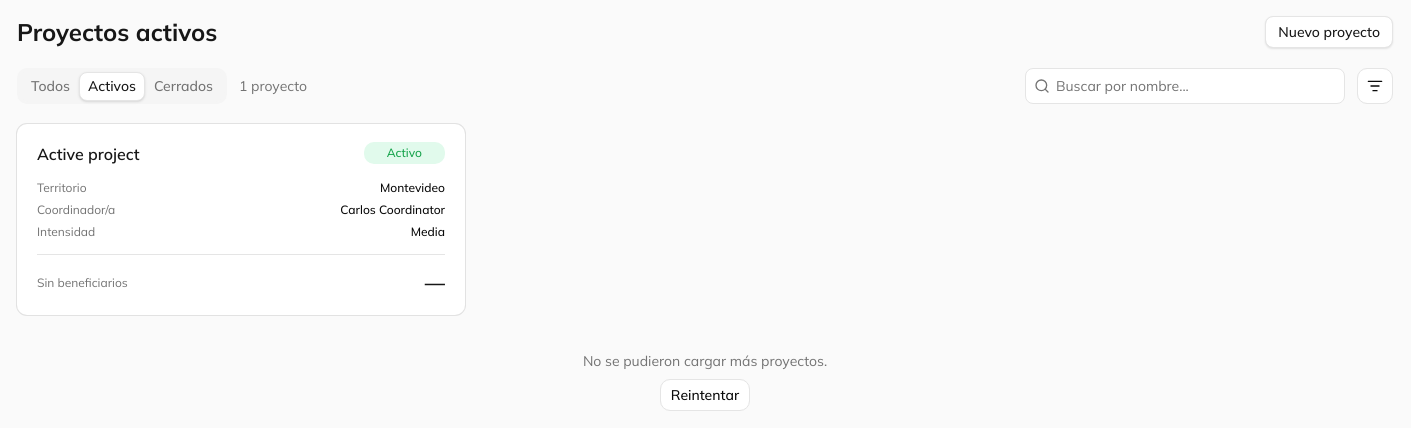
Test: offers a retry when loading the next page fails
The width and height of the screenshot is (1411, 428).
Expected: the text "No se pudieron cargar más proyectos." is shown, left=583, top=351, right=827, bottom=371
Click the button "Reintentar" at (705, 395), box left=660, top=379, right=750, bottom=411
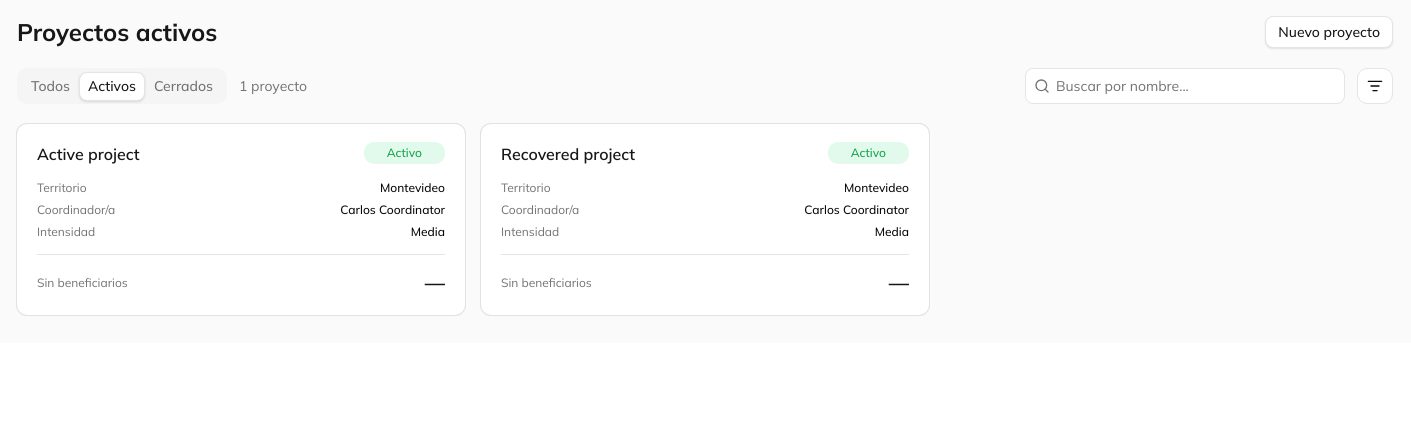
Expected: the heading "Recovered project" is shown, left=501, top=142, right=635, bottom=166
Expected: the text "No se pudieron cargar más proyectos." is gone
